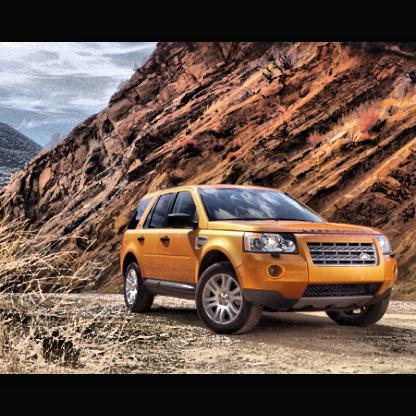Land Rover LR2 SUV 2012: (120, 183, 401, 340)
